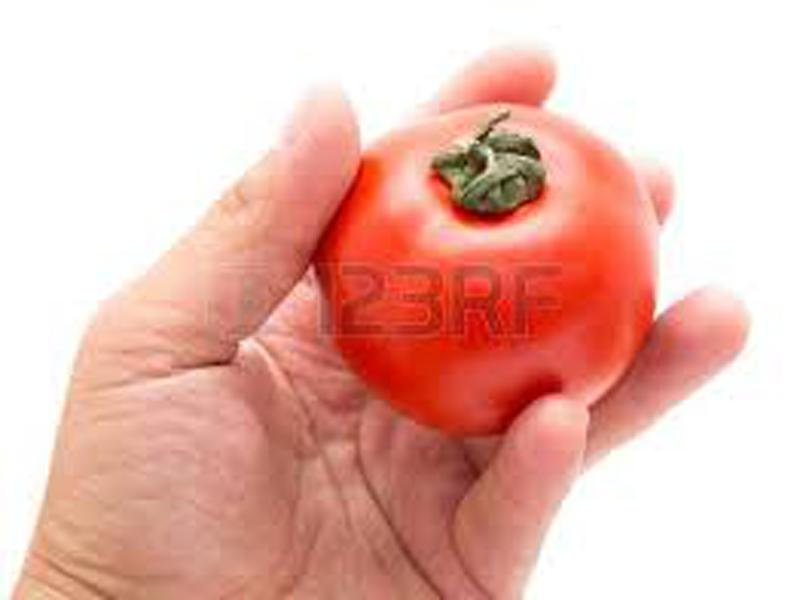Tomato: (318, 103, 660, 434)
